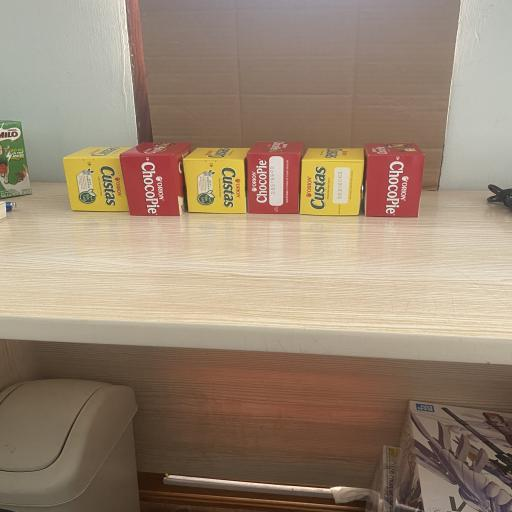chocopie: (119, 142, 191, 216), (364, 143, 425, 218), (246, 141, 304, 213)
custas: (62, 146, 133, 211), (183, 148, 249, 214), (300, 148, 364, 216)
milo: (0, 119, 33, 199)
